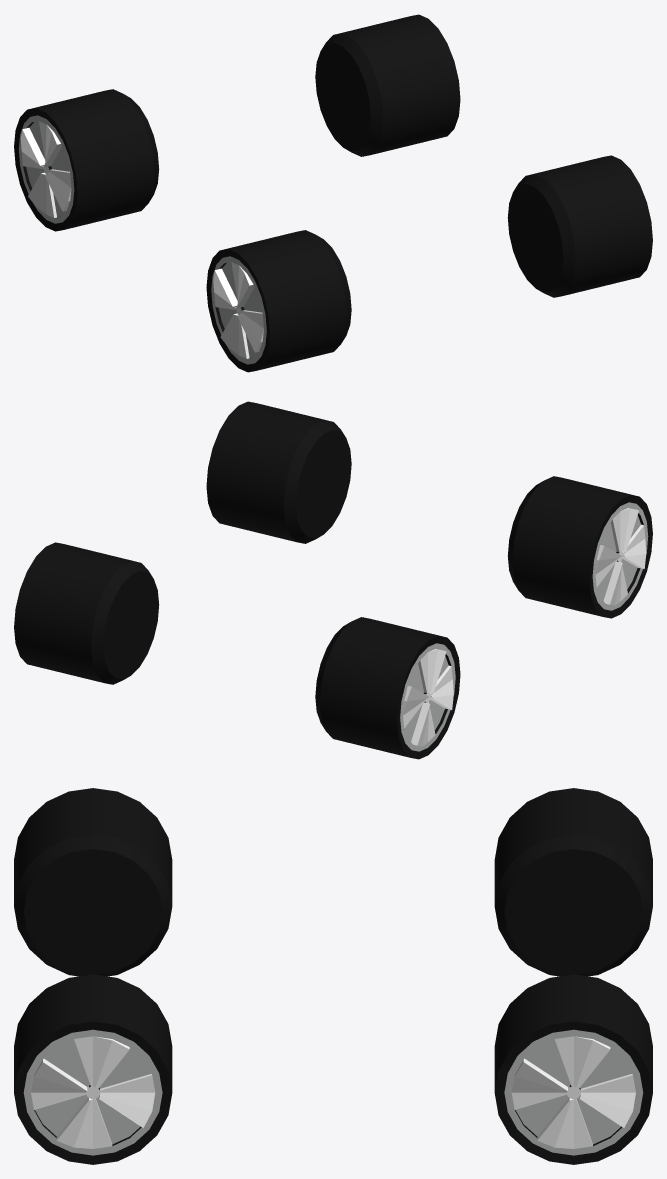
Rendered from EV-WHEELS-trj9EigJ.glb.
3 renders of one model, top to bottom at view 1: azimuth 30°, elevation 25°; view 2: azimuth 150°, elevation 25°; view 3: azimuth 270°, elevation 25°, orthographic. The views are drawn at different scales.
Bounding box in the file's own units: 1.75 × 0.4931 × 1.99.
Materials: 1 (1 with a texture image).
